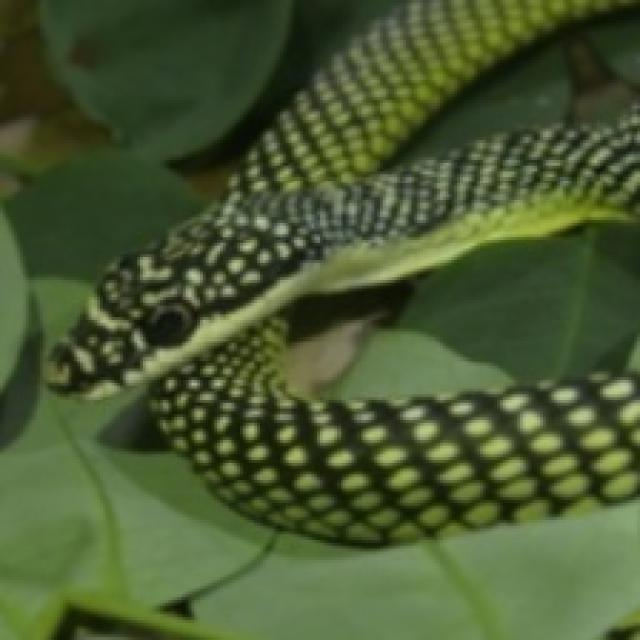paradise tree snake: (46, 0, 637, 543)
